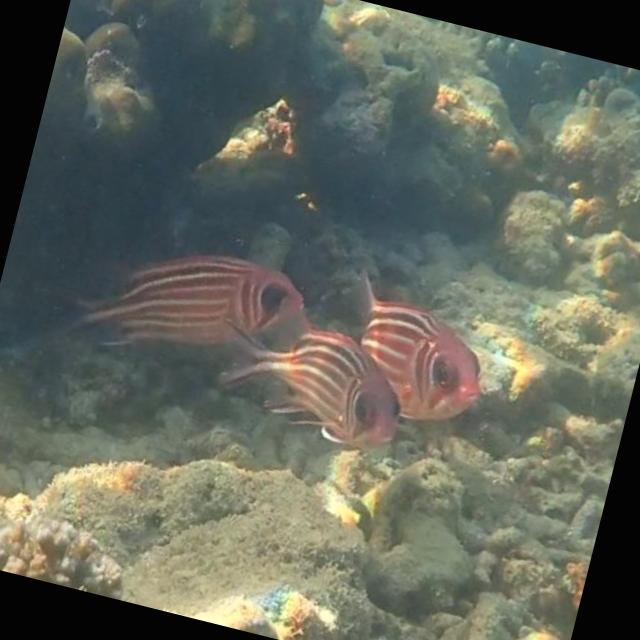Asker Baligi: (75, 212, 318, 390), (208, 298, 440, 476), (322, 264, 512, 442)
